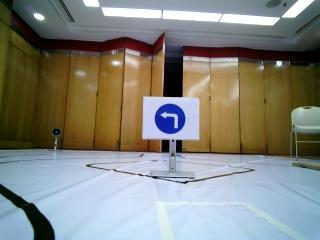left: (150, 100, 193, 137)
